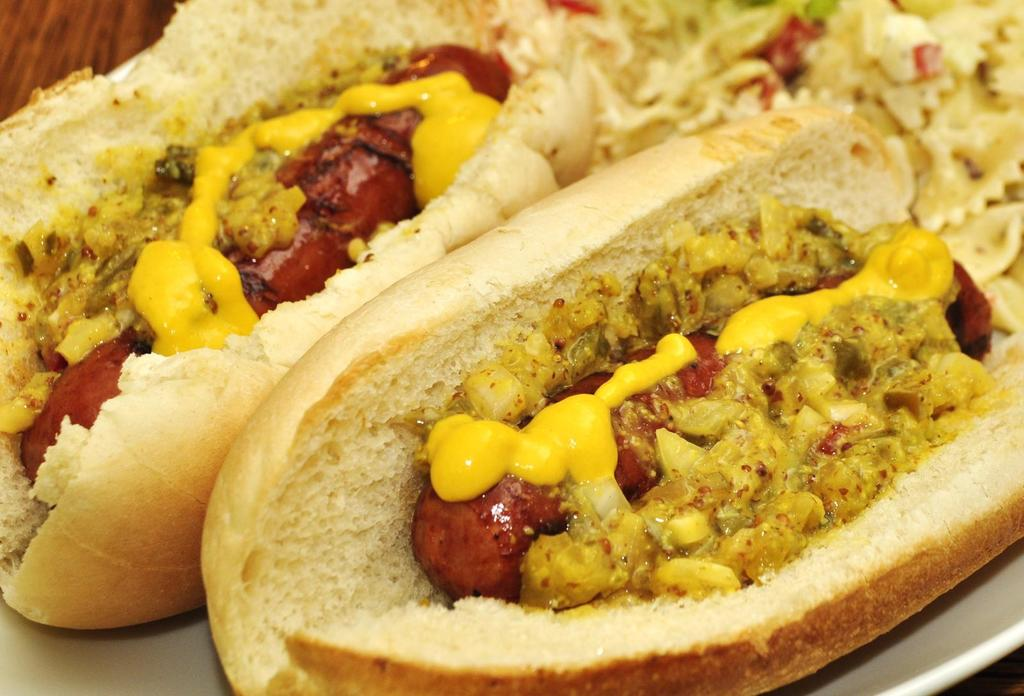hot_dog: (0, 0, 822, 637), (199, 104, 1023, 695)
